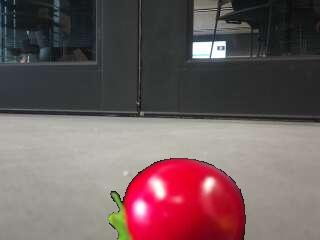Tomato: (107, 159, 247, 240)
